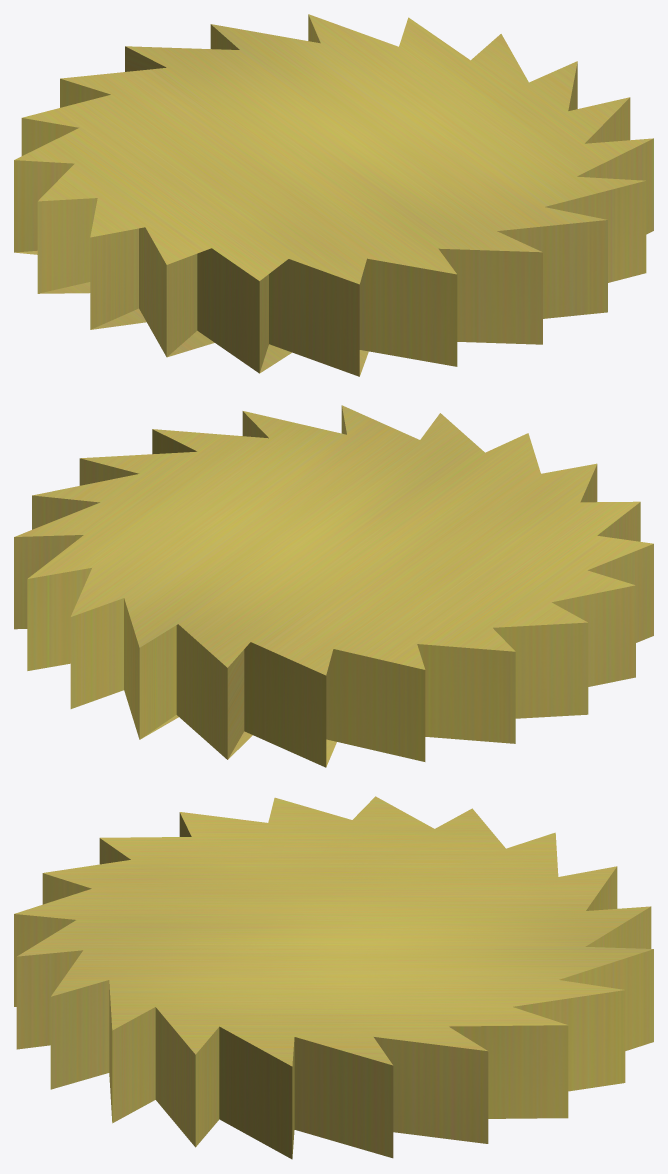
Rendered from ClockAngle4Spoke020.fbx.
3 views of the same model, one above another, from view 1: azimuth 30°, elevation 25°; view 2: azimuth 150°, elevation 25°; view 3: azimuth 270°, elevation 25° (orthographic).
Visible parts, largest first — view 1: ClockAngle4Spoke020; view 2: ClockAngle4Spoke020; view 3: ClockAngle4Spoke020.
Boxes of the visible parts, x1,y1,x2,y2 form: ClockAngle4Spoke020: (14, 14, 653, 376); ClockAngle4Spoke020: (14, 405, 653, 767); ClockAngle4Spoke020: (14, 796, 653, 1159).
Bounding box in the file's own units: 123 × 19.69 × 123.
